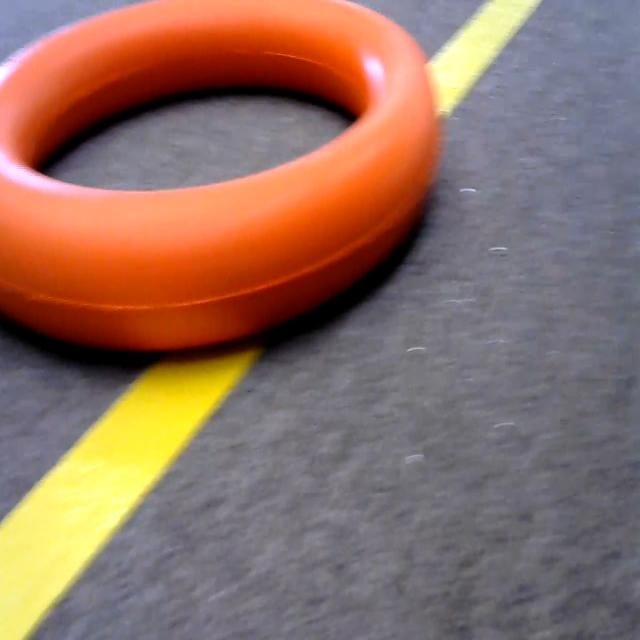note: (0, 0, 452, 364)
